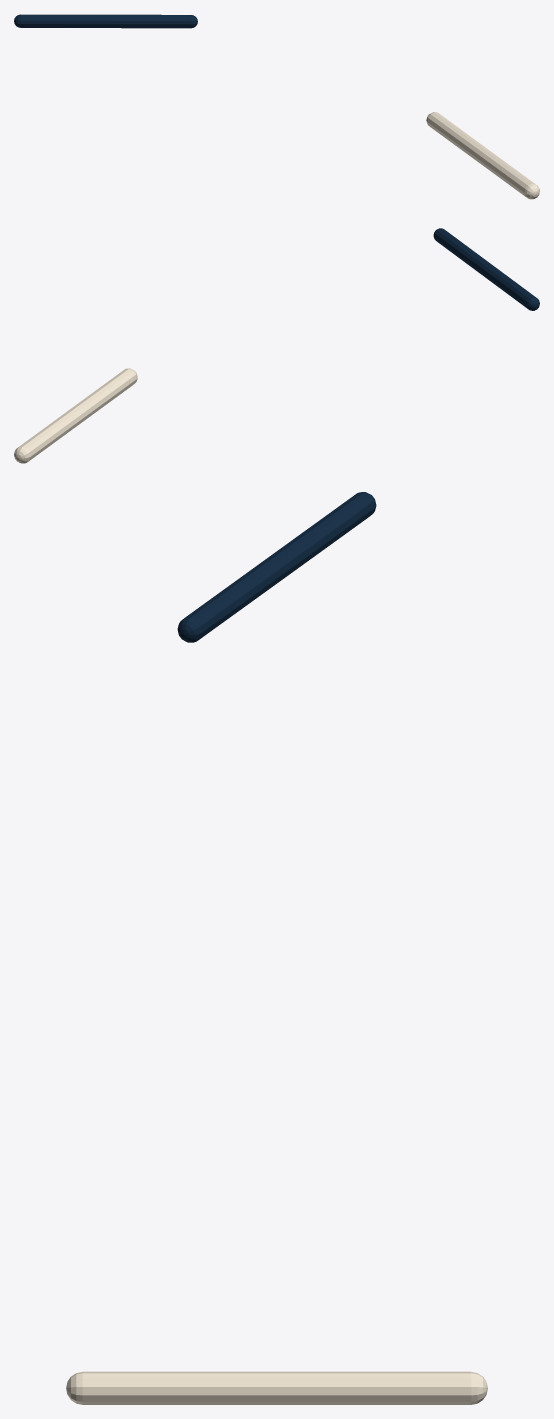
File: hazard-vine.glb
The picture shows the model from 3 angles, top to bottom: view 1: azimuth 30°, elevation 25°; view 2: azimuth 150°, elevation 25°; view 3: azimuth 270°, elevation 25°; orthographic projection. The views are drawn at different scales.
Visible parts, largest first — view 1: dark_static, hull_static; view 2: hull_static, dark_static; view 3: hull_static, dark_static.
Boxes of the visible parts, x1,y1,x2,y2 form: dark_static: [14, 14, 197, 28]; hull_static: [426, 112, 539, 199]; hull_static: [14, 368, 137, 463]; dark_static: [433, 228, 539, 310]; hull_static: [66, 1371, 487, 1404]; dark_static: [177, 492, 376, 642].
Bounding box in the file's own units: 2644 × 1336 × 1064.
